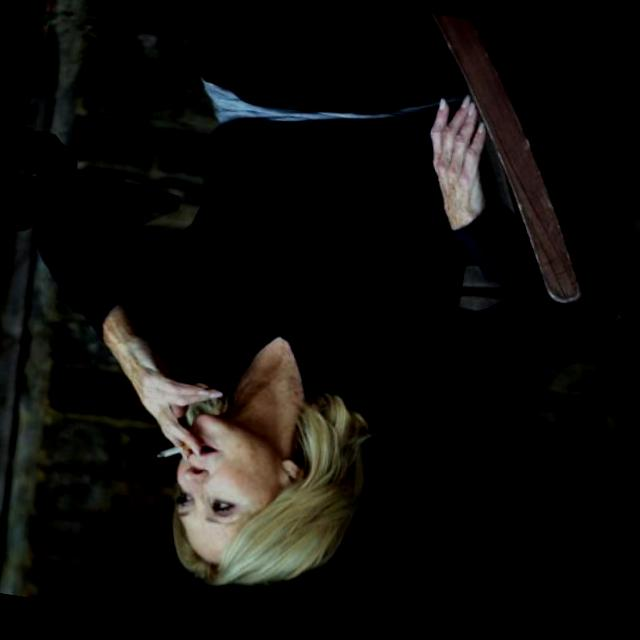smoke: (140, 432, 213, 482)
